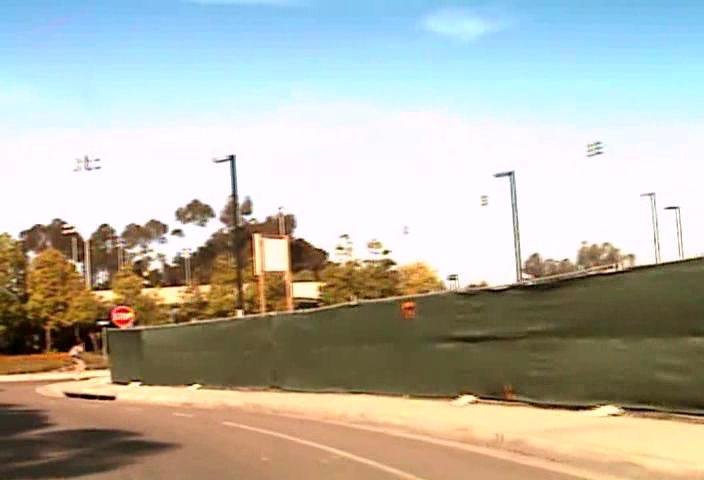stop: (111, 305, 134, 327)
